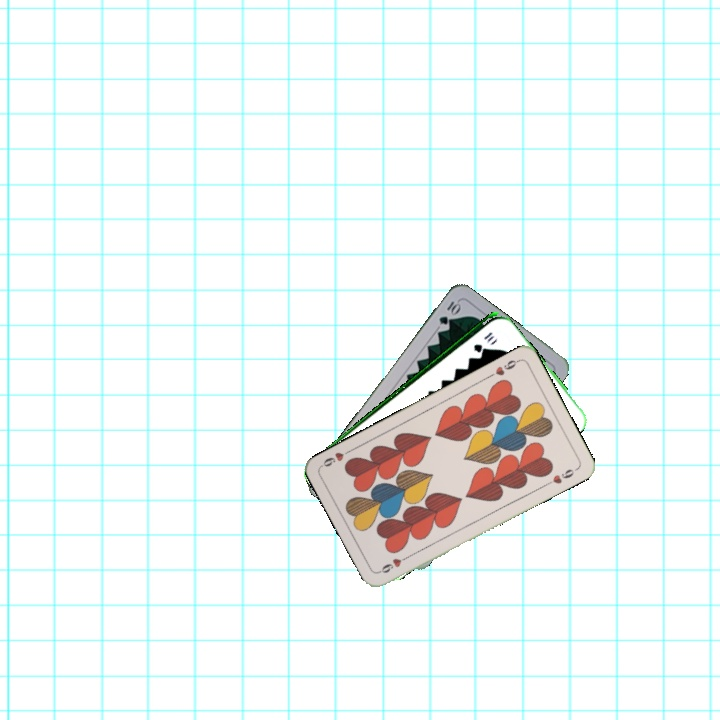G10: (435, 297, 463, 327), (469, 328, 496, 354)
H9: (375, 551, 413, 576), (485, 356, 522, 380)
